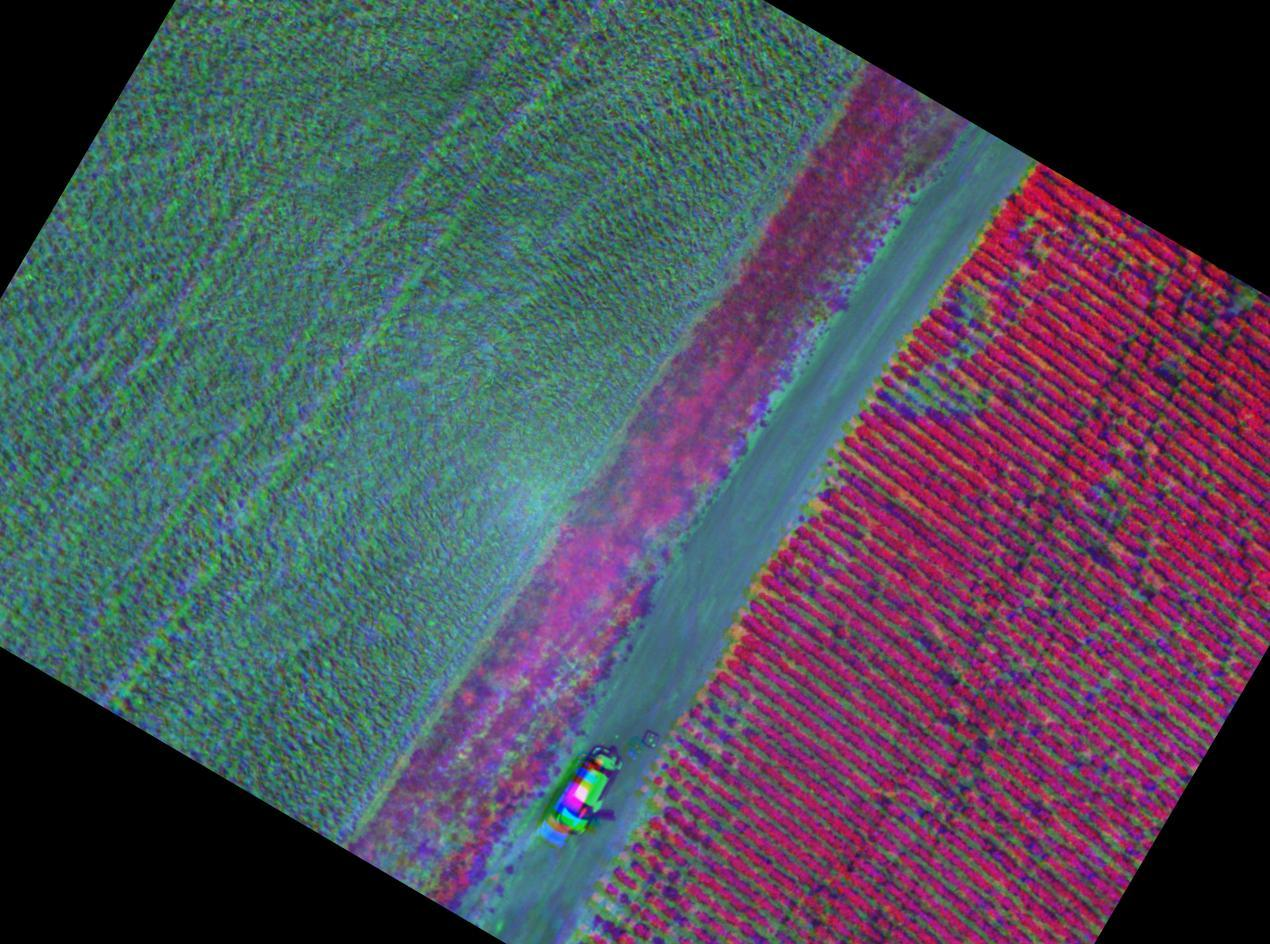dc: (680, 694, 755, 767), (893, 362, 985, 414), (588, 886, 644, 944), (957, 283, 1002, 350), (646, 792, 683, 833)
